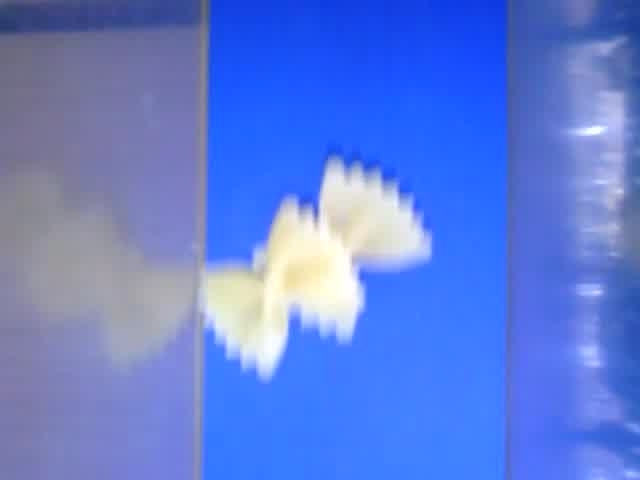farfalle: (260, 155, 433, 344), (201, 196, 365, 380)
